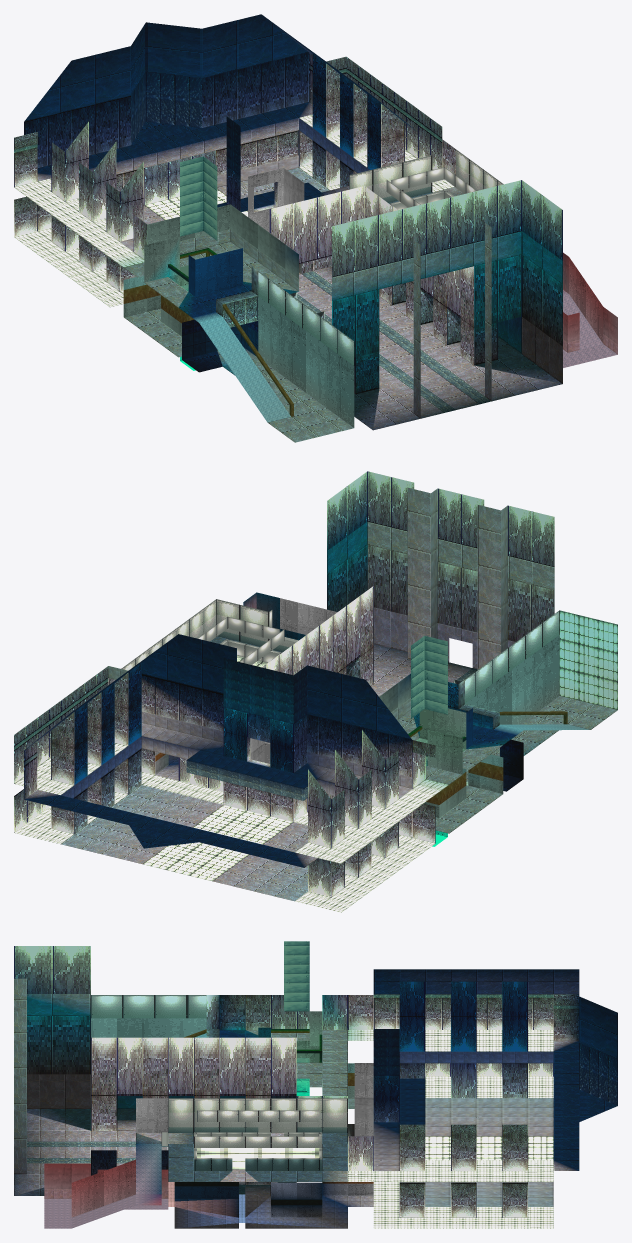
The picture shows the model from 3 angles, top to bottom: view 1: azimuth 30°, elevation 25°; view 2: azimuth 150°, elevation 25°; view 3: azimuth 270°, elevation 25°; orthographic projection. The views are drawn at different scales.
Visible parts, largest first — view 1: Grid_4, Grid_0, Grid_2, Grid_7, Grid_3, Grid_12, Grid_1, Grid_13, Grid_15, Grid_8, Grid_6; view 2: Grid_4, Grid_0, Grid_2, Grid_1, Grid_7, Grid_12, Grid_3, Grid_15, Grid_8, Grid_13; view 3: Grid_4, Grid_0, Grid_2, Grid_1, Grid_12, Grid_7, Grid_3, Grid_13, Grid_15, Grid_8.
Boxes of the visible parts, <box> form: Grid_4: <box>24,14,617,442</box>; Grid_0: <box>14,52,562,394</box>; Grid_2: <box>51,52,562,317</box>; Grid_7: <box>123,168,617,427</box>; Grid_3: <box>14,65,491,412</box>; Grid_12: <box>258,149,503,365</box>; Grid_1: <box>14,114,454,350</box>; Grid_13: <box>192,290,617,422</box>; Grid_15: <box>180,156,217,360</box>; Grid_8: <box>123,248,293,416</box>; Grid_6: <box>182,324,258,359</box>; Grid_4: <box>24,487,617,901</box>; Grid_0: <box>51,544,554,896</box>; Grid_2: <box>14,471,554,896</box>; Grid_1: <box>14,610,617,912</box>; Grid_7: <box>155,592,559,817</box>; Grid_12: <box>122,599,559,703</box>; Grid_3: <box>14,658,477,800</box>; Grid_15: <box>411,635,447,836</box>; Grid_8: <box>155,711,567,804</box>; Grid_13: <box>494,724,589,735</box>; Grid_4: <box>14,969,617,1228</box>; Grid_0: <box>27,994,579,1217</box>; Grid_2: <box>14,946,553,1170</box>; Grid_1: <box>168,1030,553,1228</box>; Grid_12: <box>91,995,347,1170</box>; Grid_7: <box>44,1011,373,1217</box>; Grid_3: <box>27,994,617,1163</box>; Grid_13: <box>44,1033,206,1228</box>; Grid_15: <box>284,941,309,1095</box>; Grid_8: <box>174,1029,373,1205</box>.
Bounding box in the file's own units: 350 × 212 × 588.
18 materials, 18 textured.
